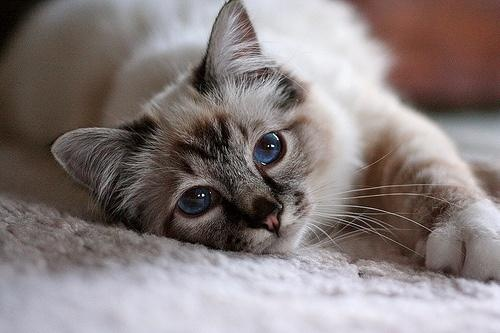cat: (3, 3, 499, 287)
